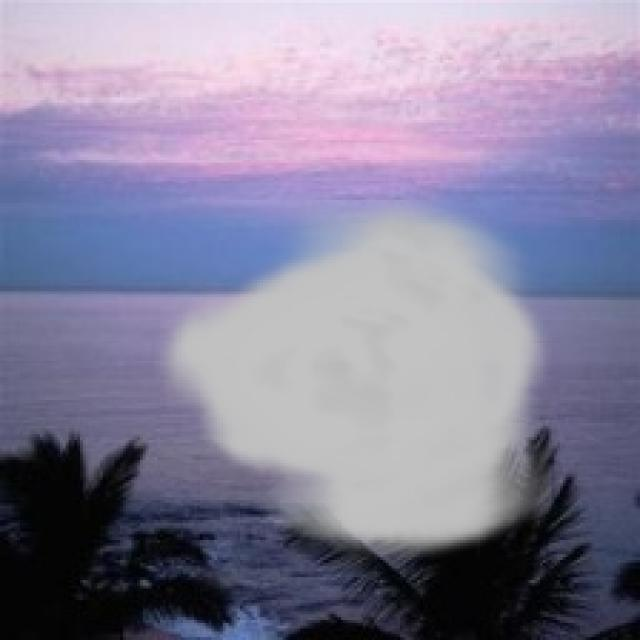Smoke: (154, 191, 552, 560)
